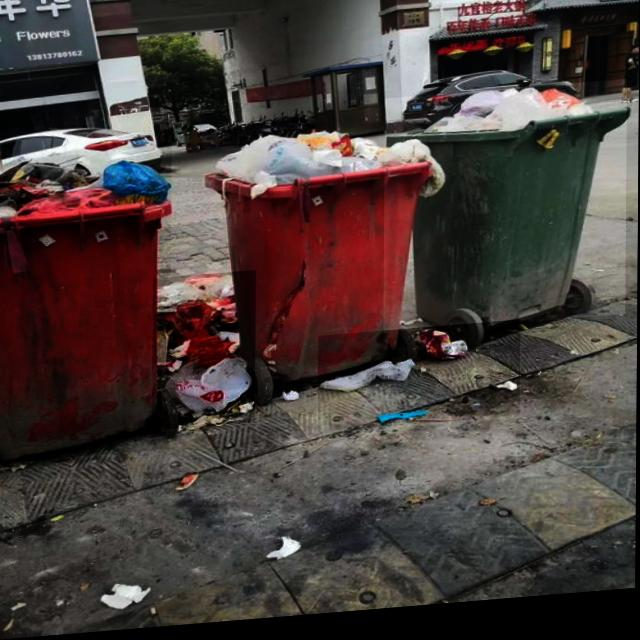garbage: (319, 329, 521, 437), (152, 274, 256, 433)
overflow: (203, 128, 446, 391), (384, 90, 627, 340), (0, 146, 172, 463)
